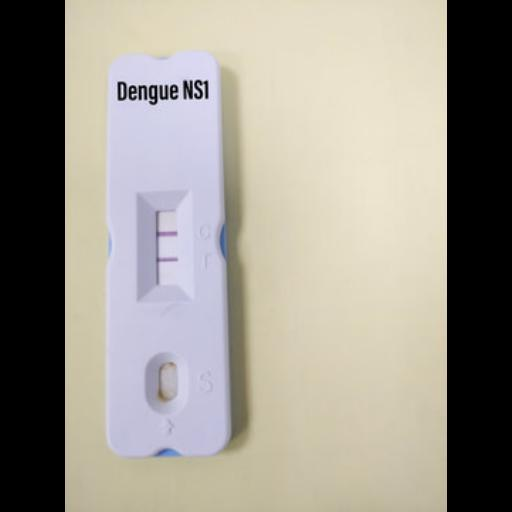Pos: (106, 54, 228, 452)
